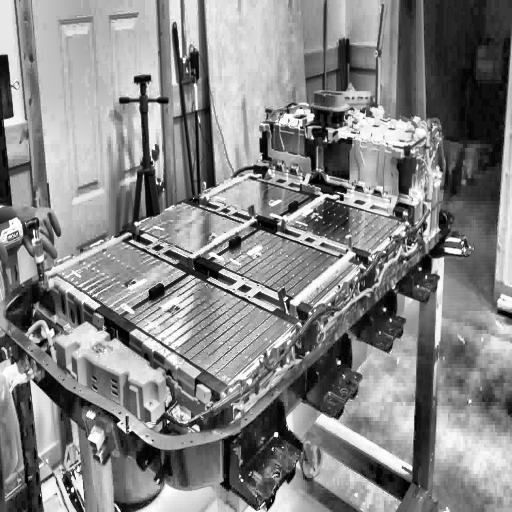battery_module: (123, 272, 295, 386), (212, 228, 358, 307), (53, 234, 186, 316), (273, 195, 405, 254), (132, 200, 258, 260), (198, 174, 309, 221)
busbar: (42, 220, 139, 290), (288, 235, 356, 317), (188, 203, 258, 269), (259, 123, 321, 194), (276, 193, 340, 234), (197, 172, 262, 203)
connector: (311, 87, 350, 127)
high_volt_cable: (232, 118, 439, 413)
low_volt_cable: (146, 122, 448, 430)
